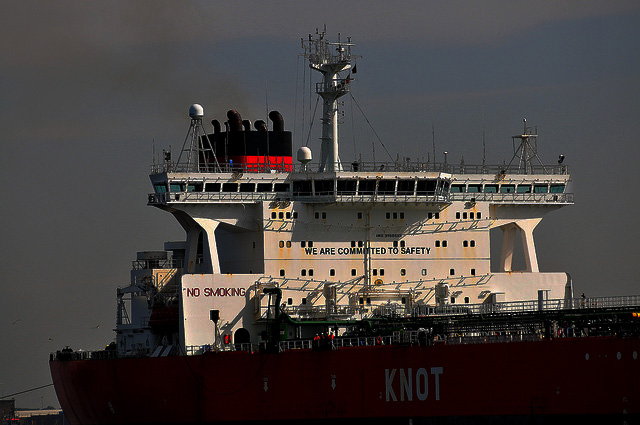tanker: (49, 25, 640, 416)
